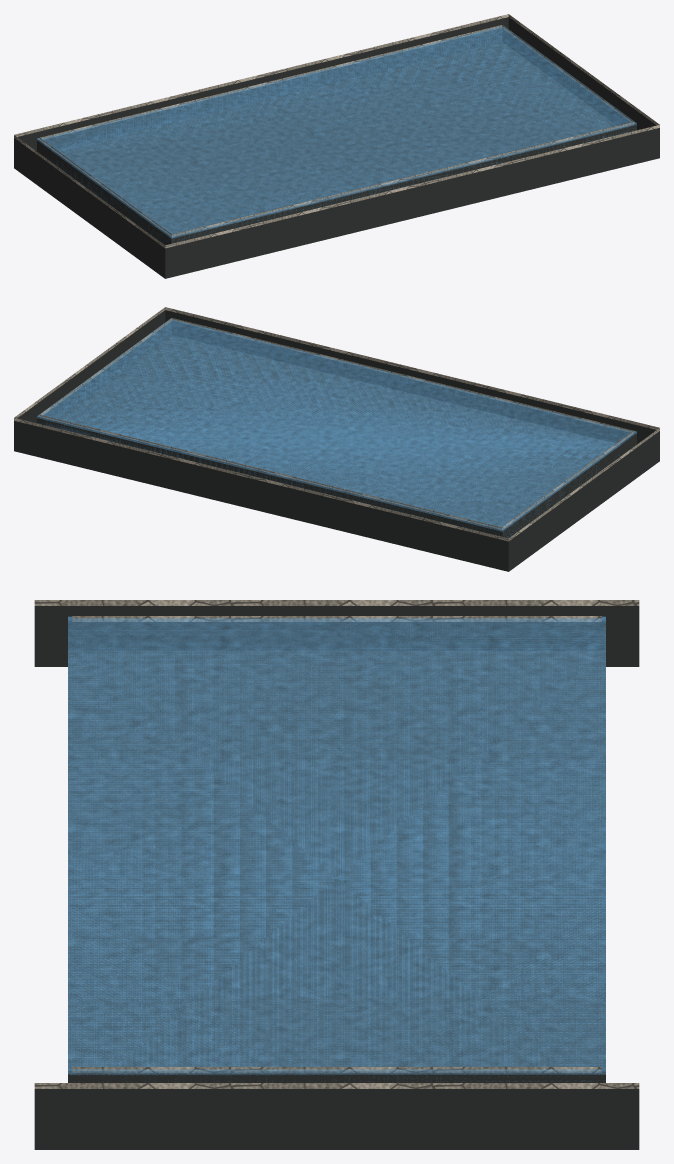
3 views of the same model, one above another, from view 1: azimuth 30°, elevation 25°; view 2: azimuth 150°, elevation 25°; view 3: azimuth 270°, elevation 25° (orthographic). The views are drawn at different scales.
Parts seen in each view (by area): view 1: water.reflecting_pool (×3); view 2: water.reflecting_pool (×3); view 3: water.reflecting_pool (×3).
Part boxes in pixels (x1,y1,x2,y2): water.reflecting_pool (×3): (14,14,659,278); water.reflecting_pool (×3): (14,307,659,571); water.reflecting_pool (×3): (34,600,639,1149).
Size of the model in its own units: 8.5 by 4.5 by 0.55.
3 materials, 2 textured.
